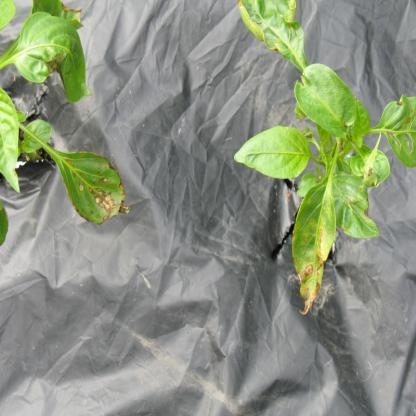Bell_pepper leaf: (45, 146, 140, 232), (290, 163, 338, 331), (11, 12, 91, 102), (232, 1, 310, 70), (335, 169, 384, 245)
